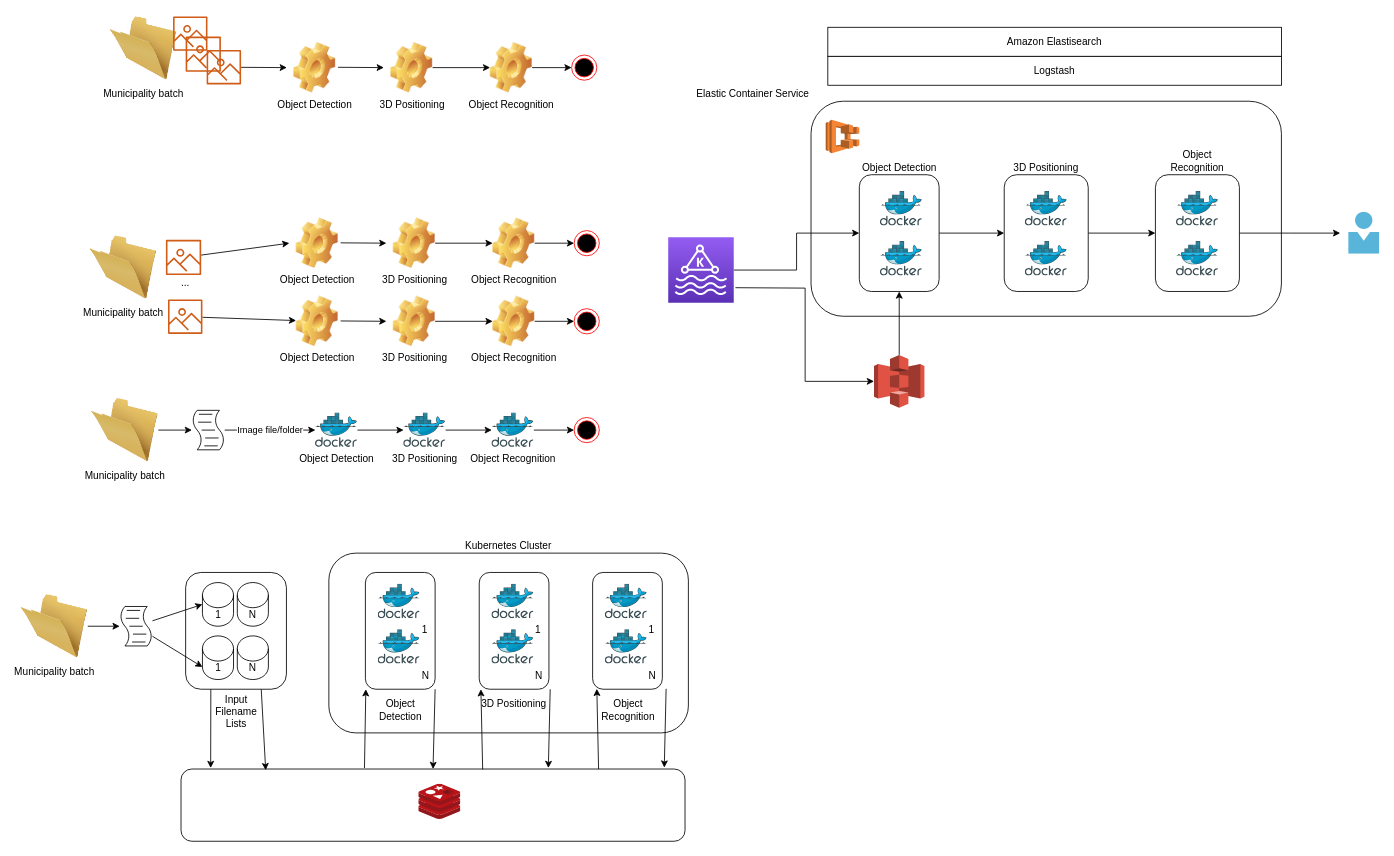
Some shapes in this 1394 by 856 pixel diagram are drawn without their labels. Each missing label, with the centre of its shape:
"Coordinator" belongs at pixel 135 626.
"For each image in the folder..." belongs at pixel 208 430.
"Redis Server" belongs at pixel 439 801.
